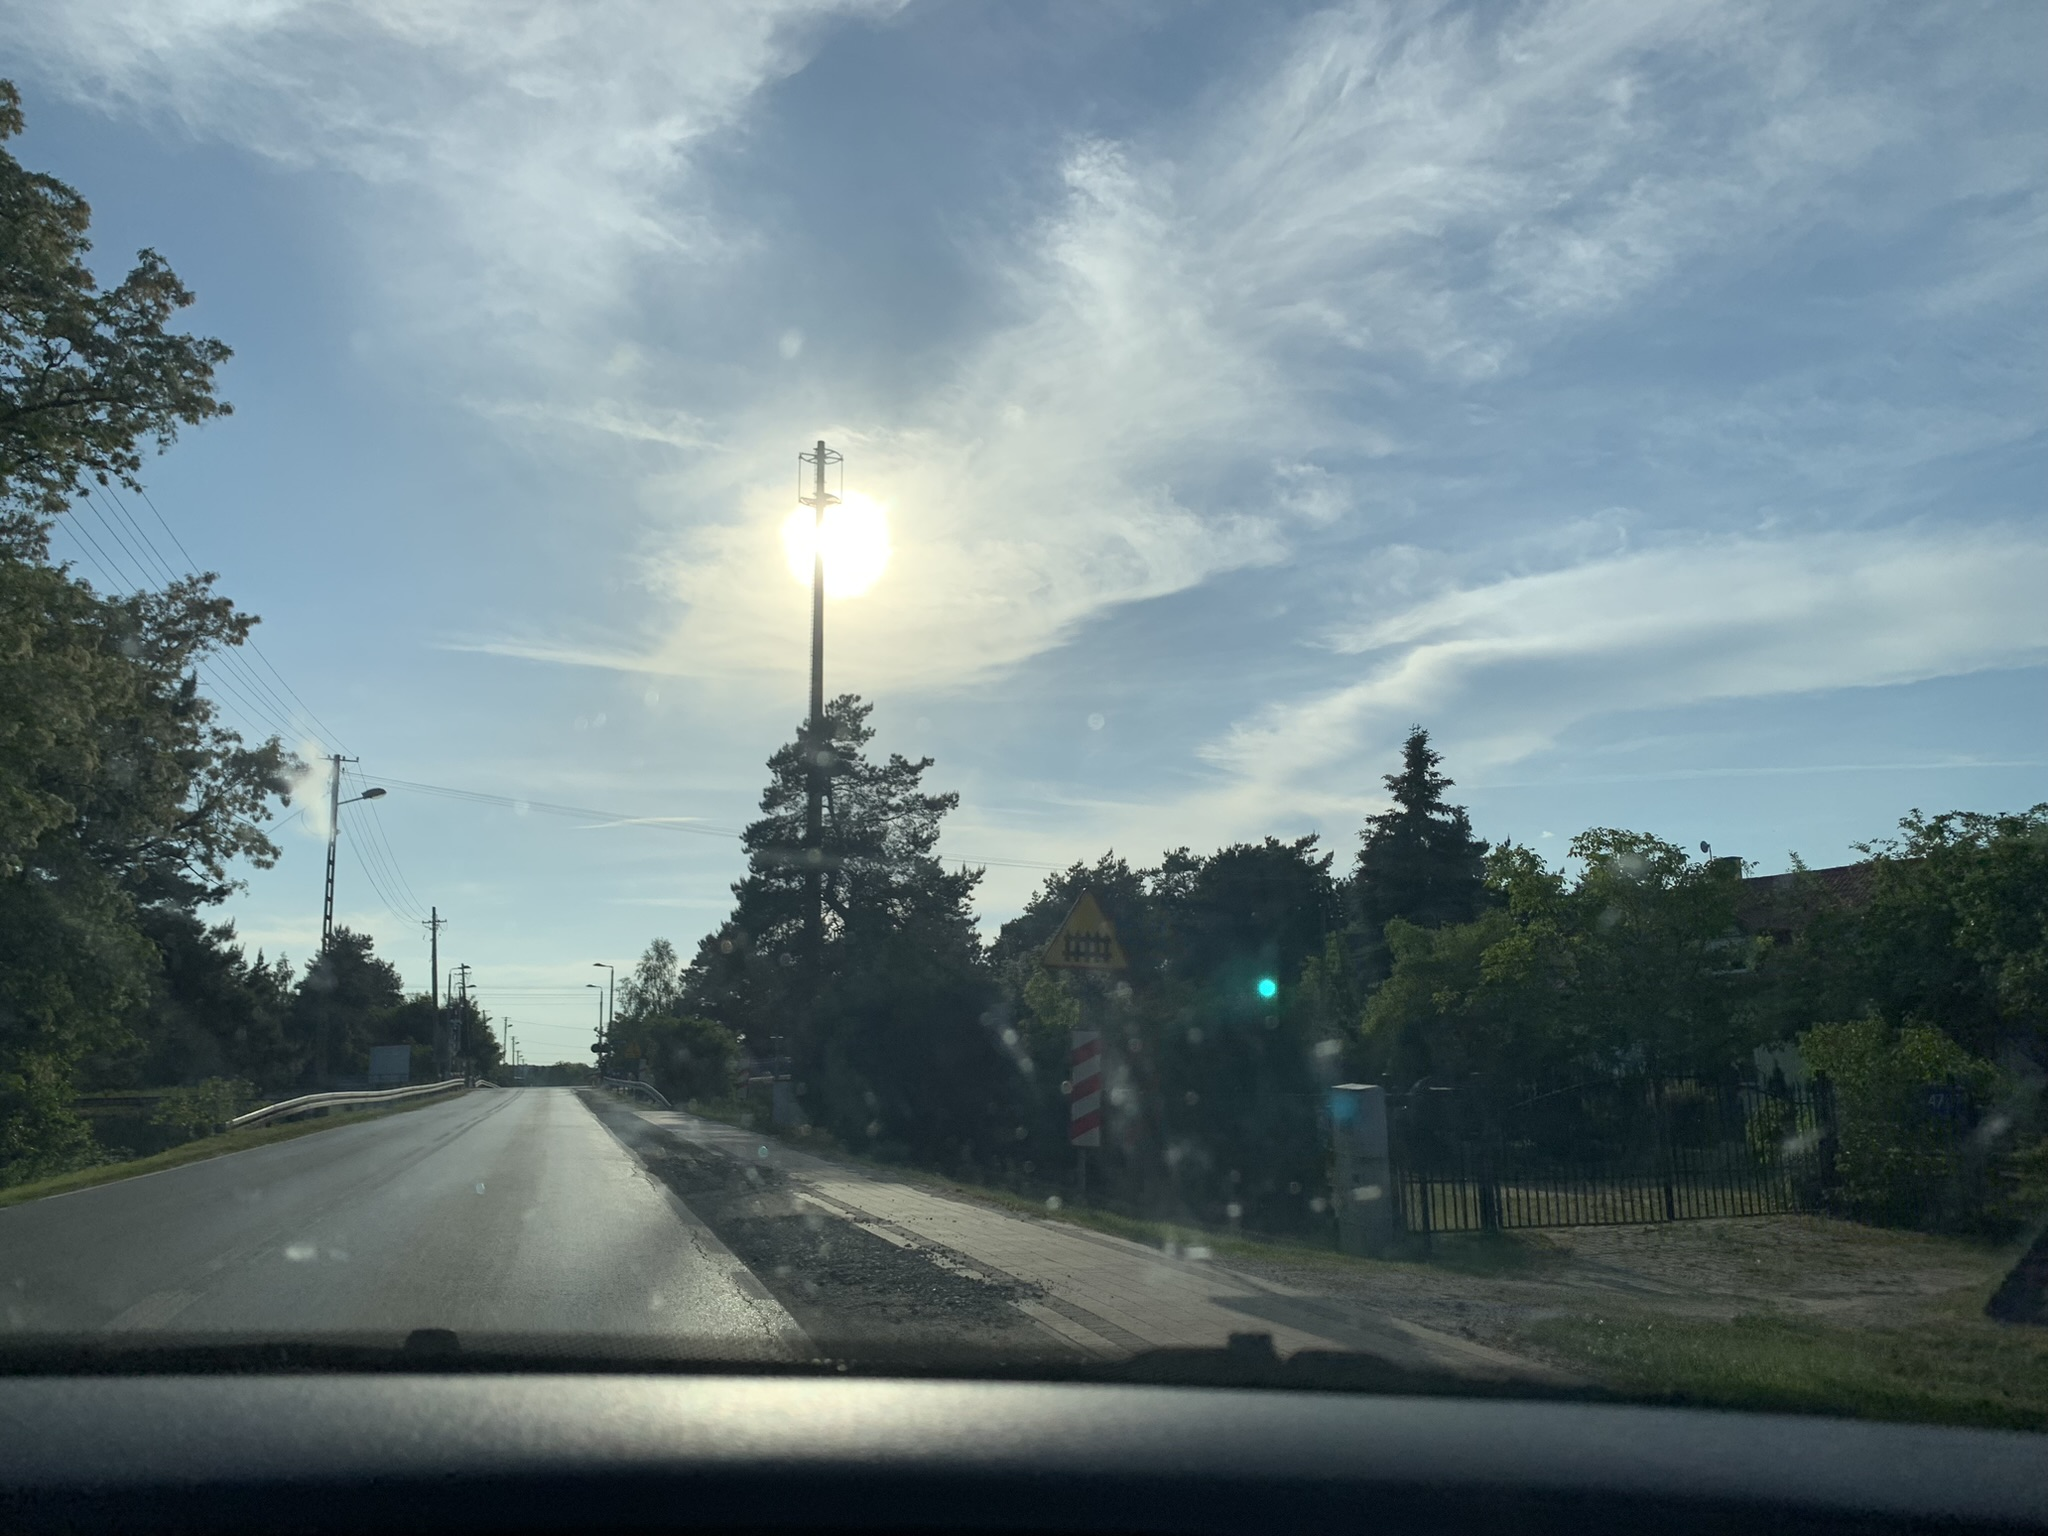a9: (1059, 926, 1118, 968)
